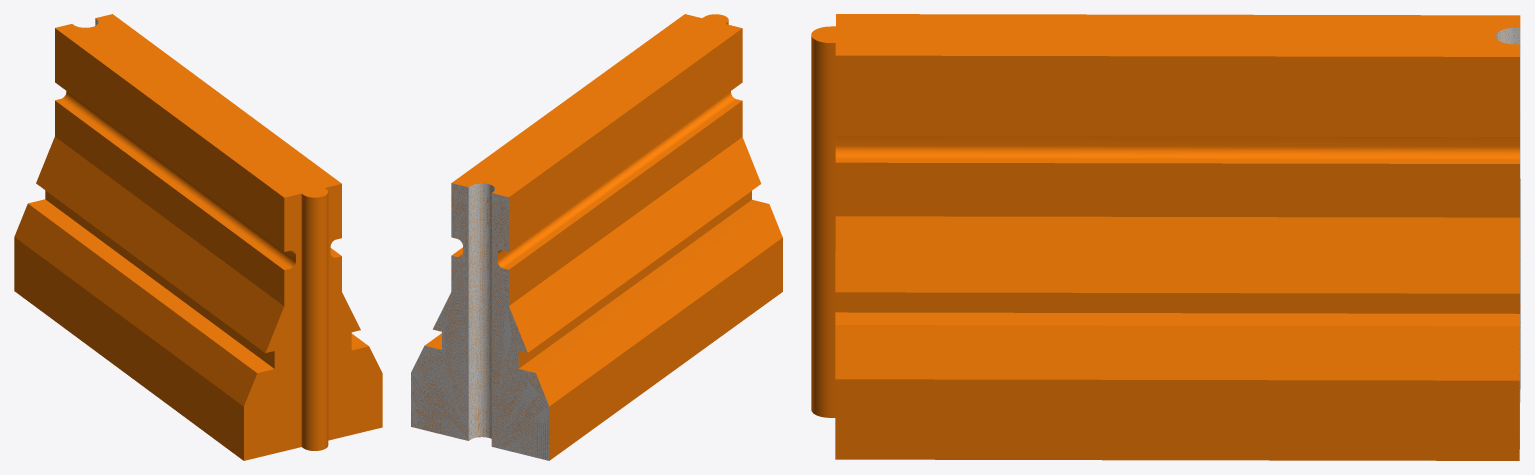
File: jersey_barrier.dae
3 renders of one model, left to right at view 1: azimuth 30°, elevation 25°; view 2: azimuth 150°, elevation 25°; view 3: azimuth 270°, elevation 25°, orthographic. The views are drawn at different scales.
Visible parts, largest first — view 1: SketchUp; view 2: SketchUp (×2); view 3: SketchUp (×2).
Part boxes in pixels (x1,y1,x2,y2): SketchUp: (14,14,382,460); SketchUp (×2): (411,14,782,460); SketchUp (×2): (811,14,1520,460).
Bounding box in the file's own units: 24.33 × 72.06 × 42.
